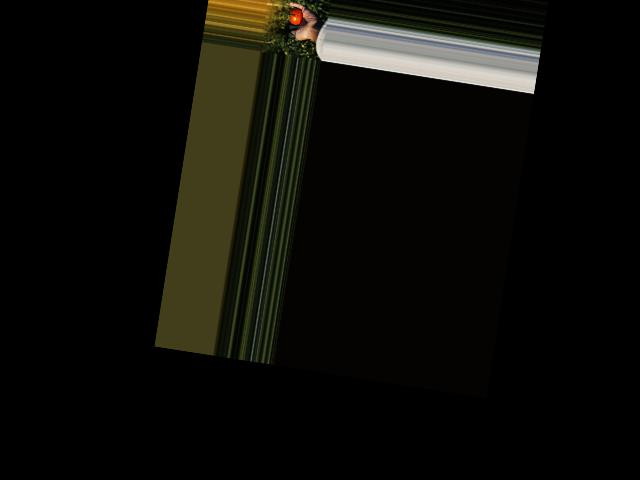tomato: (287, 6, 304, 25)
